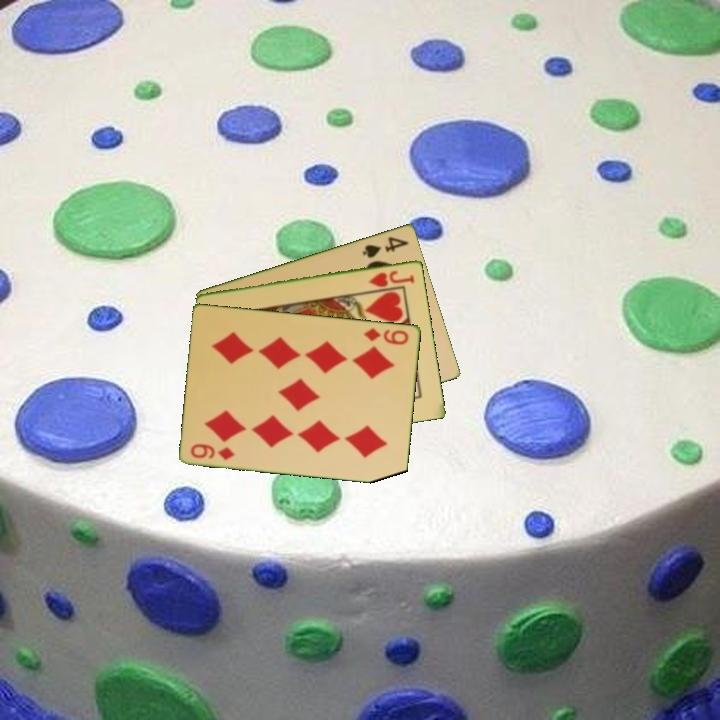4s: (359, 233, 412, 261)
9d: (360, 324, 412, 347), (187, 440, 238, 463)
Jh: (365, 266, 417, 290)
